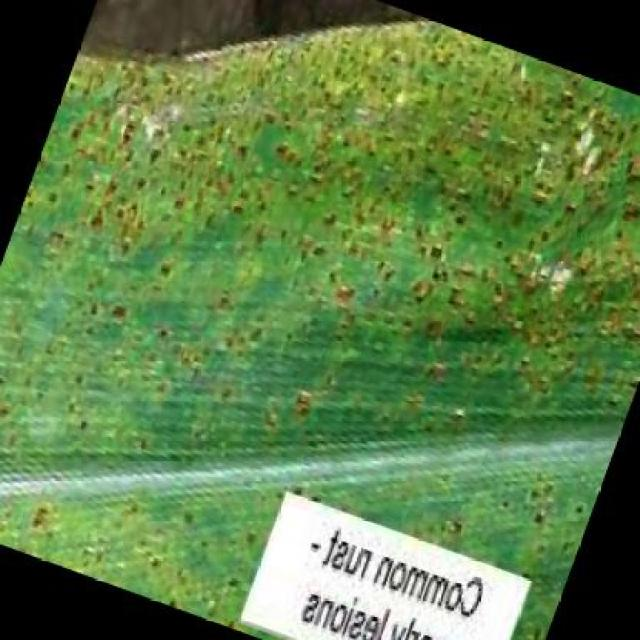Corn_Rust: (103, 64, 559, 444)
